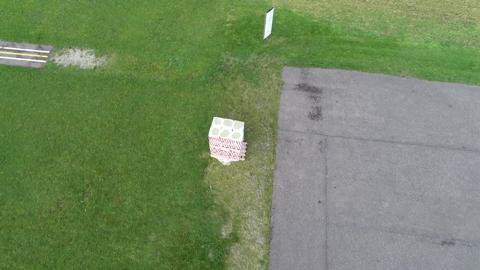RockwoolPallet: (208, 115, 245, 160)
